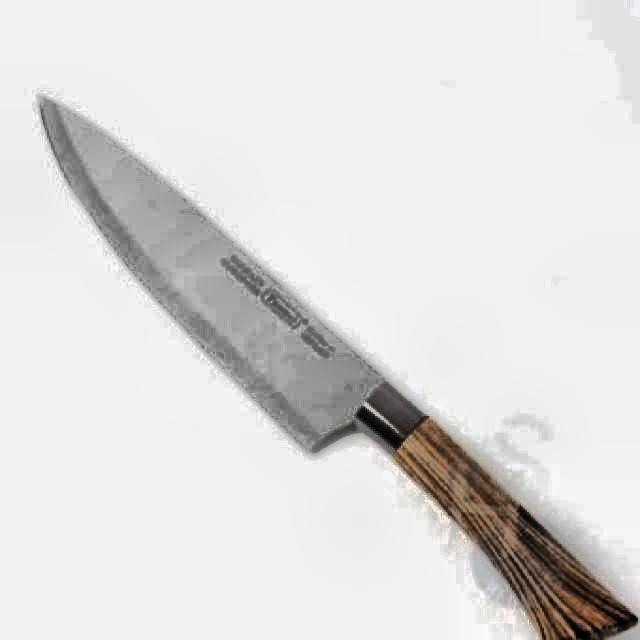knife: (35, 92, 640, 640)
